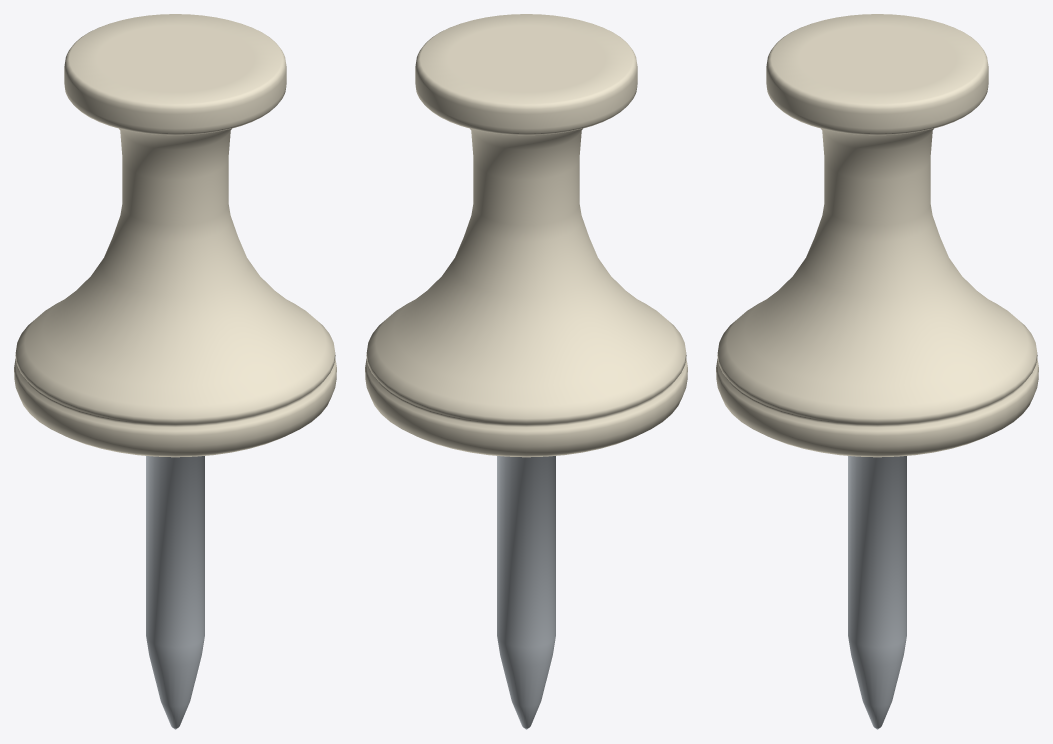
Rendered from thumbtack_ivory.glb.
The picture shows the model from 3 angles, left to right: view 1: azimuth 30°, elevation 25°; view 2: azimuth 150°, elevation 25°; view 3: azimuth 270°, elevation 25°; orthographic projection.
Visible parts, largest first — view 1: Plastic_Head, Steel_Pin; view 2: Plastic_Head, Steel_Pin; view 3: Plastic_Head, Steel_Pin.
Part boxes in pixels (bbox=[...]): Plastic_Head: bbox=[14, 14, 336, 457]; Steel_Pin: bbox=[146, 456, 204, 729]; Plastic_Head: bbox=[365, 14, 687, 457]; Steel_Pin: bbox=[497, 456, 555, 729]; Plastic_Head: bbox=[716, 14, 1038, 457]; Steel_Pin: bbox=[848, 456, 906, 729].
Size of the model in its own units: 0.009 by 0.0206 by 0.009.
